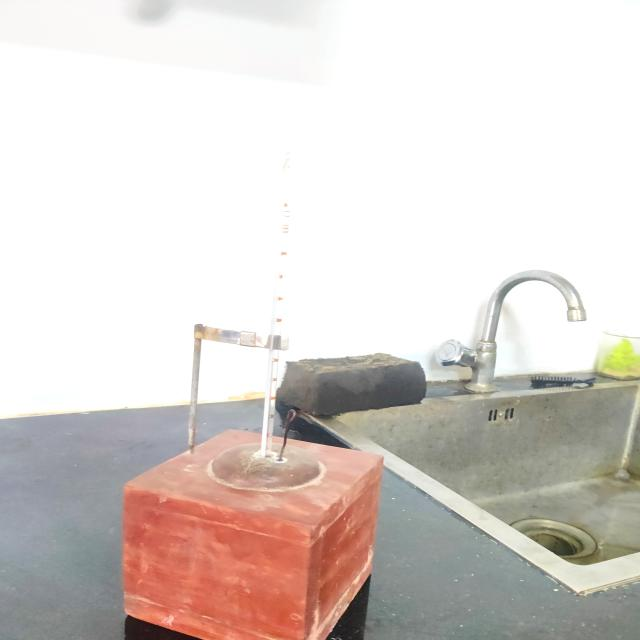Calorimeter: (102, 72, 424, 640)
